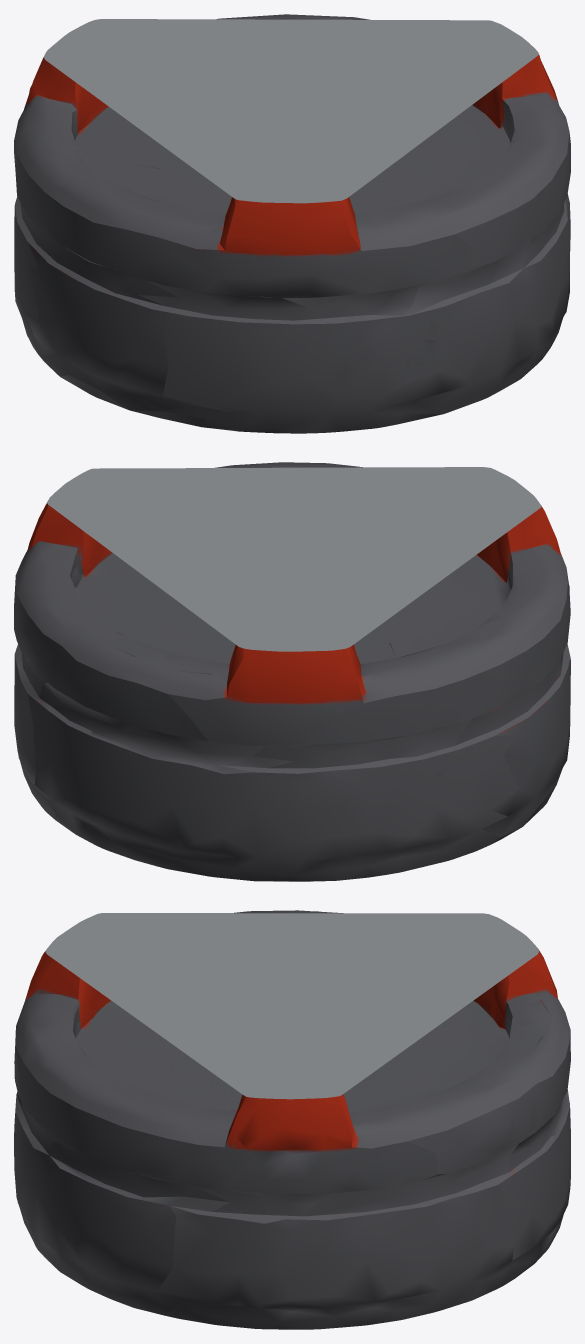
Rendered from docking_port_mk1.glb.
The picture shows the model from 3 angles, top to bottom: view 1: azimuth 30°, elevation 25°; view 2: azimuth 150°, elevation 25°; view 3: azimuth 270°, elevation 25°; orthographic projection.
Parts seen in each view (by area): view 1: part; view 2: part; view 3: part.
Boxes of the visible parts, x1,y1,x2,y2 form: part: (14,14,570,433); part: (14,462,570,881); part: (14,910,570,1329).
Bounding box in the file's own units: 1.5 × 0.6818 × 1.5.
2 materials, 1 textured.
